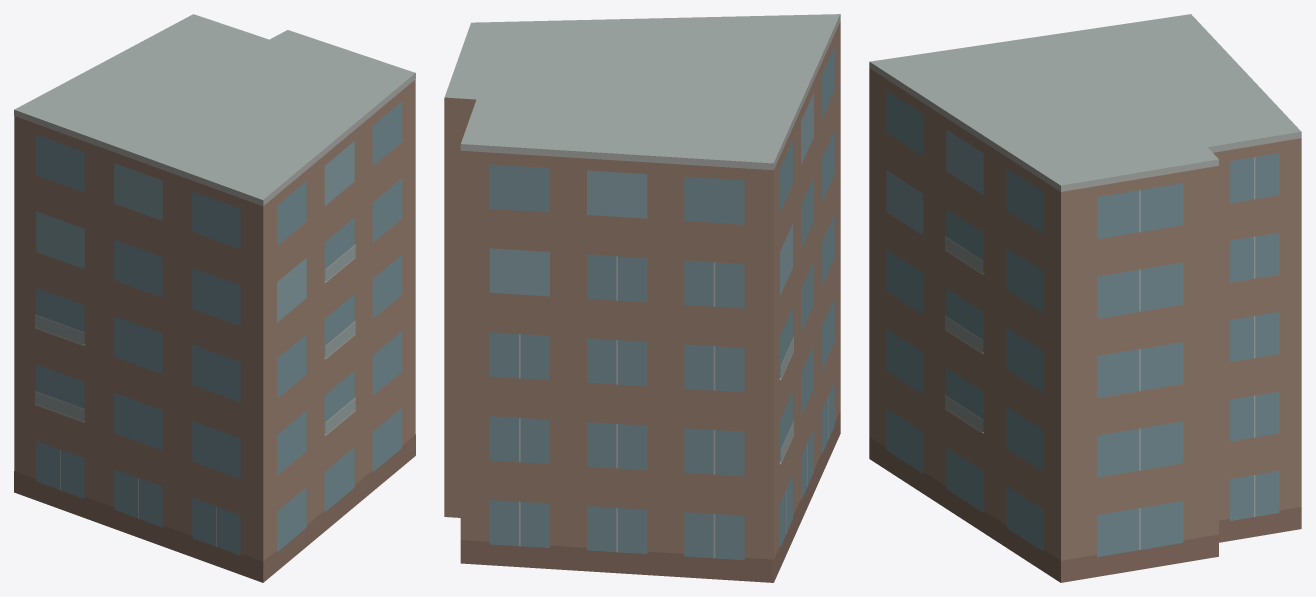
File: survey-upis-32666576.glb
3 views of the same model, side by side, from view 1: azimuth 30°, elevation 25°; view 2: azimuth 150°, elevation 25°; view 3: azimuth 270°, elevation 25° (orthographic). The views are drawn at different scales.
Parts seen in each view (by area): view 1: survey-upis-32666576.tmp; view 2: survey-upis-32666576.tmp; view 3: survey-upis-32666576.tmp.
Part boxes in pixels (bbox=[...]): survey-upis-32666576.tmp: bbox=[14, 14, 415, 582]; survey-upis-32666576.tmp: bbox=[444, 14, 840, 582]; survey-upis-32666576.tmp: bbox=[869, 14, 1301, 582].
Bounding box in the file's own units: 14.09 × 15.2 × 15.
